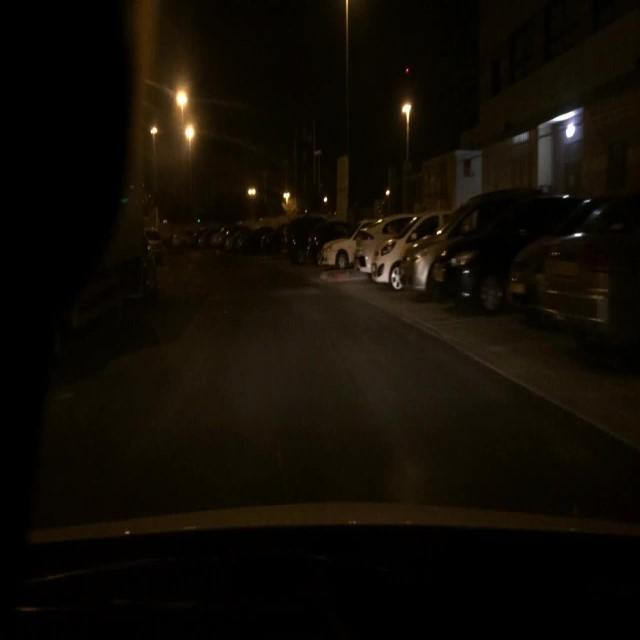normal: (294, 191, 639, 367)
